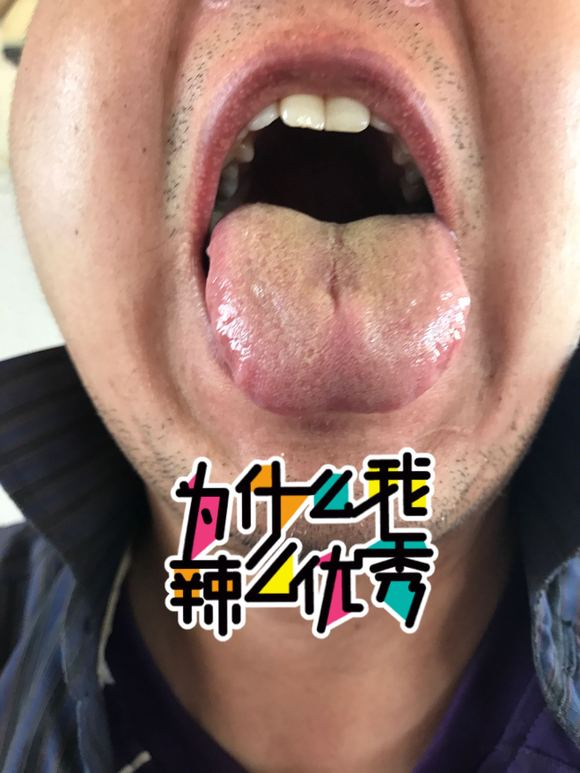chihenshe: (207, 316, 249, 394)
huangtaishe: (205, 201, 470, 415)
liewenshe: (322, 254, 345, 315)
